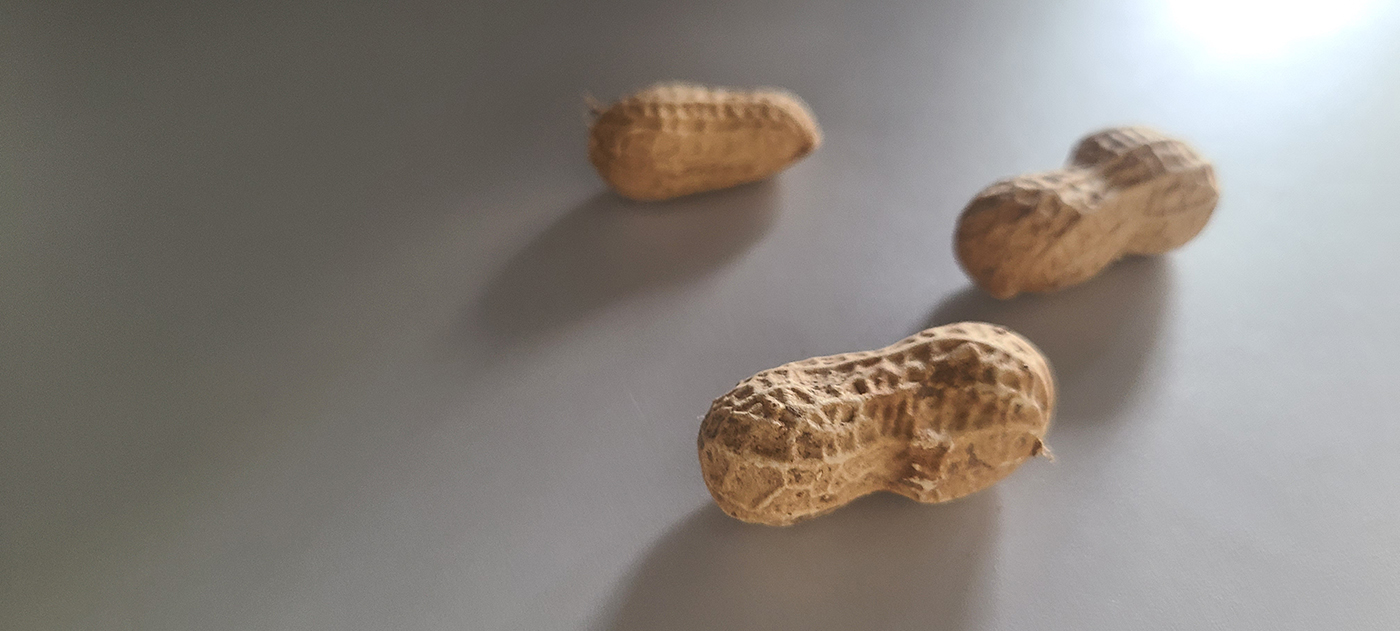h: (699, 319, 1056, 527), (948, 124, 1221, 299), (587, 80, 826, 203)
